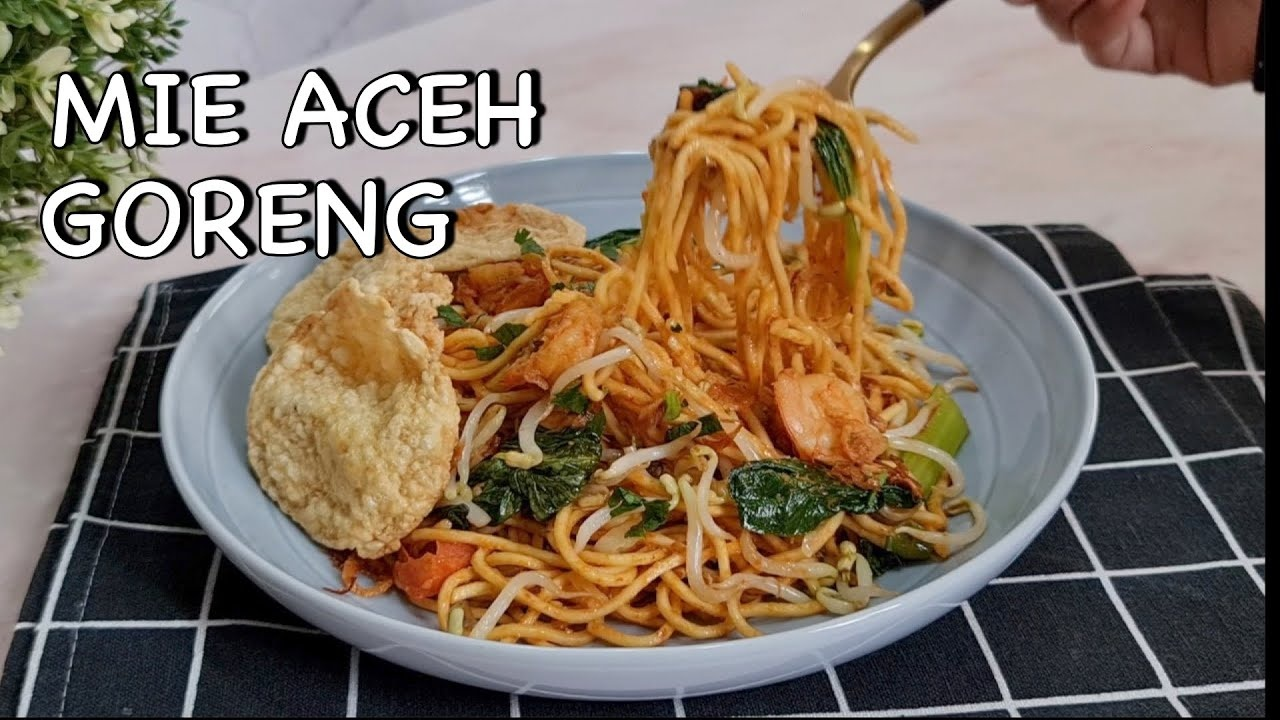mie_aceh: (250, 100, 974, 638)
